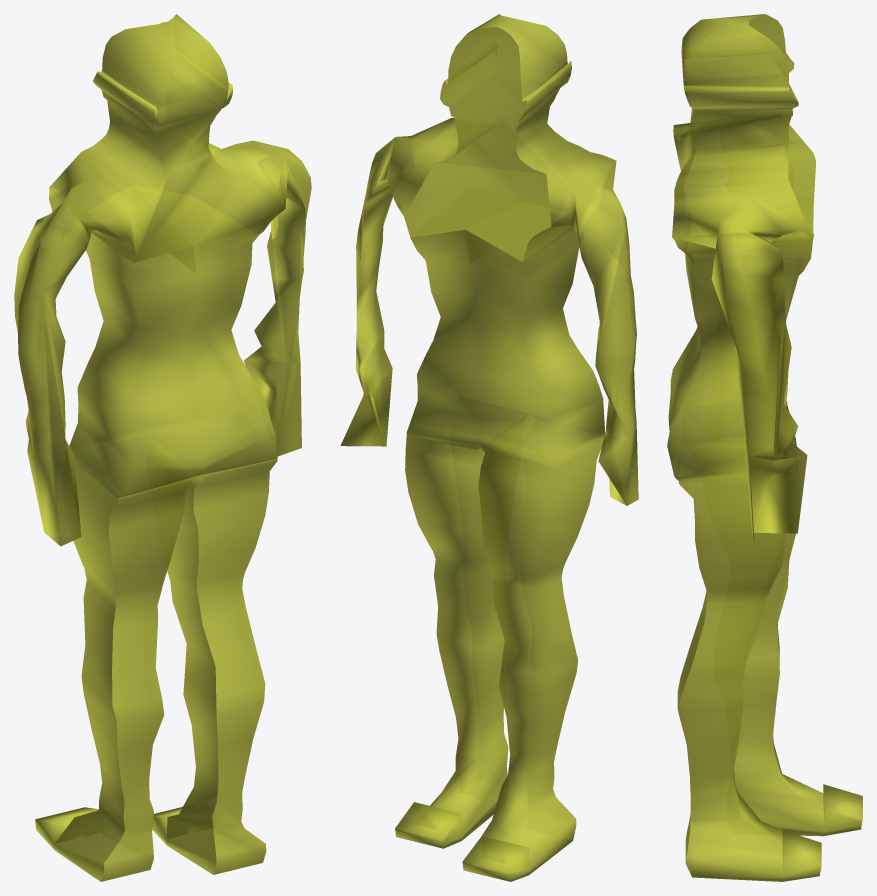
Rendered from woman_000004.obj.
The picture shows the model from 3 angles, left to right: view 1: azimuth 30°, elevation 25°; view 2: azimuth 150°, elevation 25°; view 3: azimuth 270°, elevation 25°; orthographic projection. The views are drawn at different scales.
Parts seen in each view (by area): view 1: Cube_Cube.001; view 2: Cube_Cube.001; view 3: Cube_Cube.001.
Part boxes in pixels (bbox=[...]): Cube_Cube.001: bbox=[14, 14, 311, 881]; Cube_Cube.001: bbox=[340, 14, 638, 881]; Cube_Cube.001: bbox=[667, 14, 862, 881].
Size of the model in its own units: 3.52 by 9.95 by 2.13.
